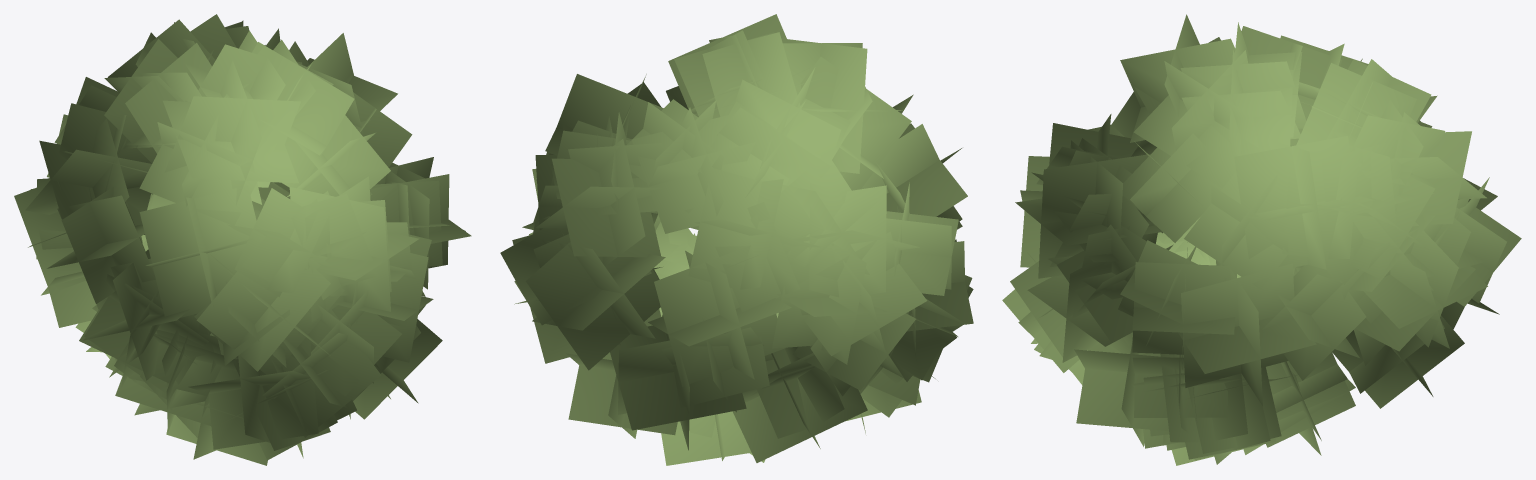
File: tree-leaves-mesh.glb
The picture shows the model from 3 angles, left to right: view 1: azimuth 30°, elevation 25°; view 2: azimuth 150°, elevation 25°; view 3: azimuth 270°, elevation 25°; orthographic projection. The views are drawn at different scales.
Visible parts, largest first — view 1: Plane.124; view 2: Plane.124; view 3: Plane.124.
Boxes of the visible parts, box(x1,y1,x2,y2) form: Plane.124: box(14, 14, 471, 465); Plane.124: box(500, 14, 973, 465); Plane.124: box(1002, 14, 1521, 465).
Size of the model in its own units: 8.88 by 8.75 by 9.82.
